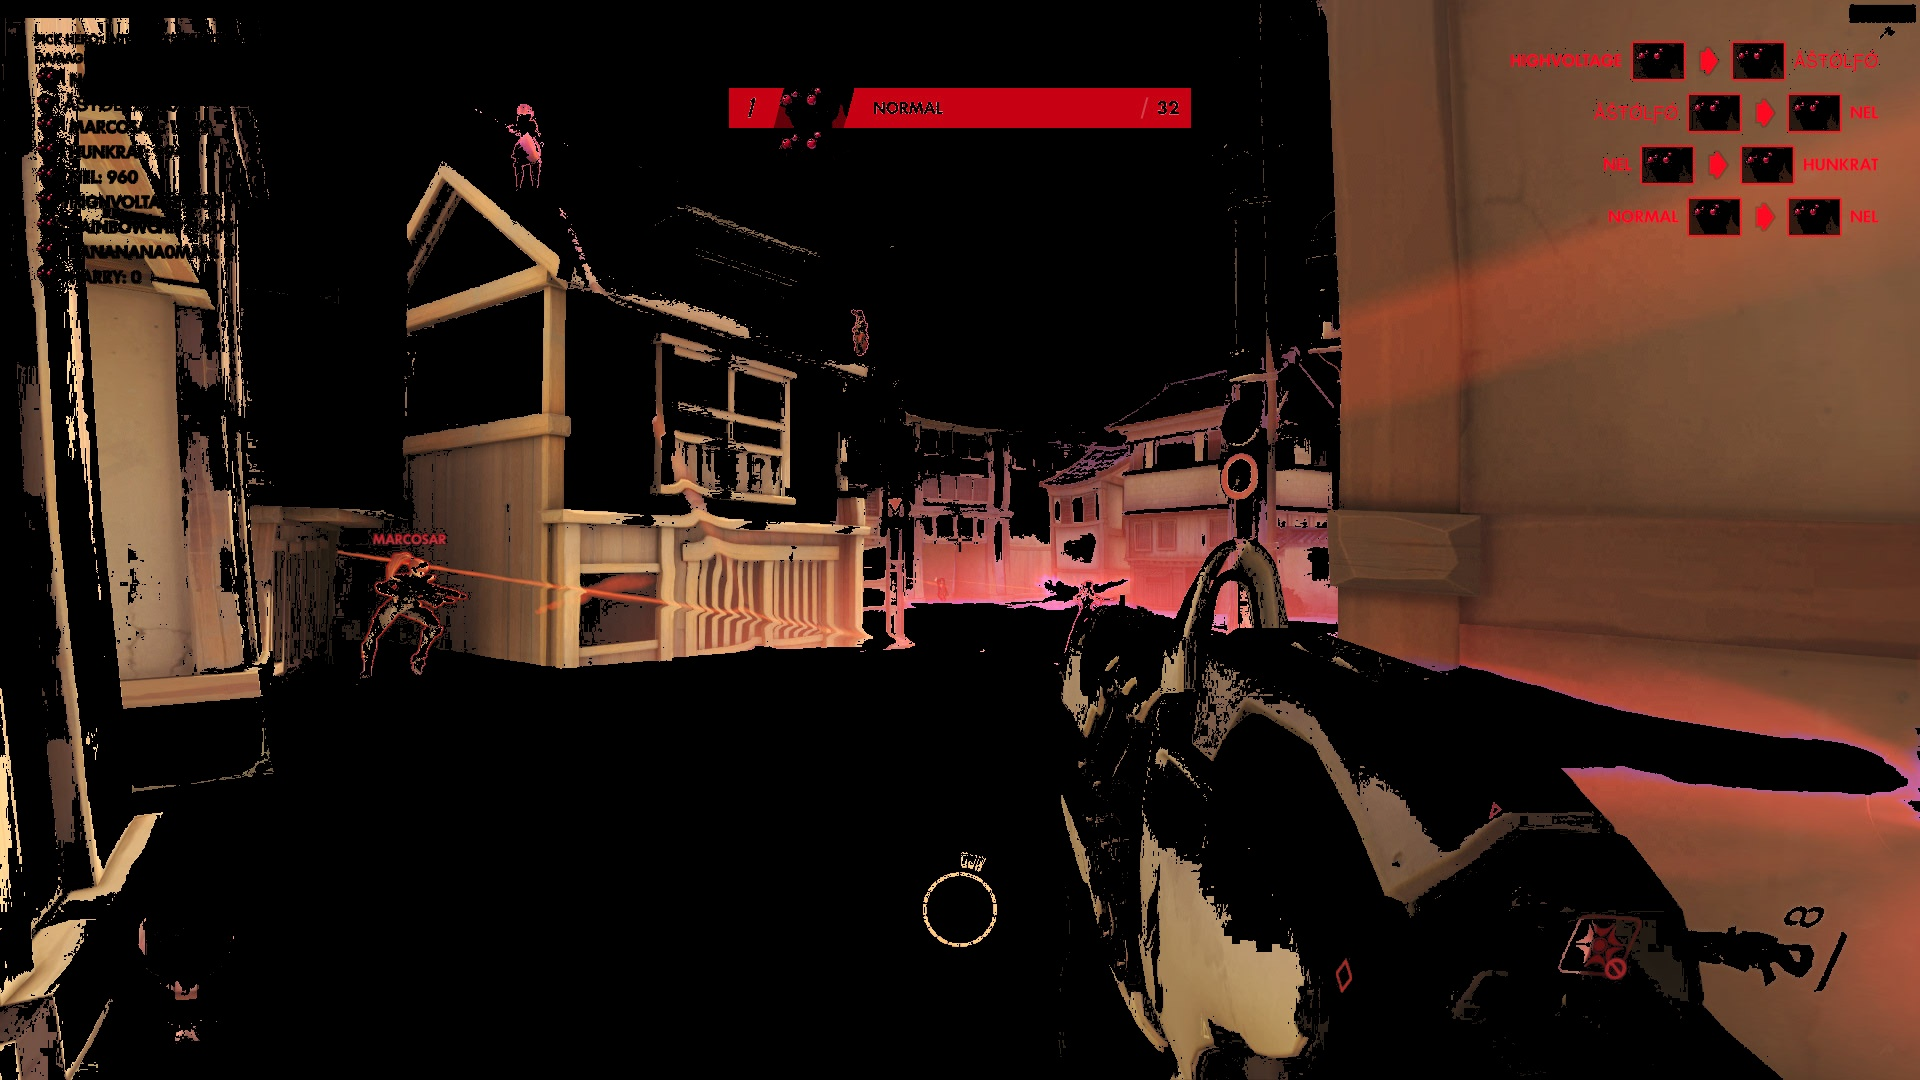widowmaker: (363, 546, 467, 680), (504, 99, 554, 210), (1065, 574, 1109, 655), (847, 305, 873, 365), (932, 574, 951, 605)
